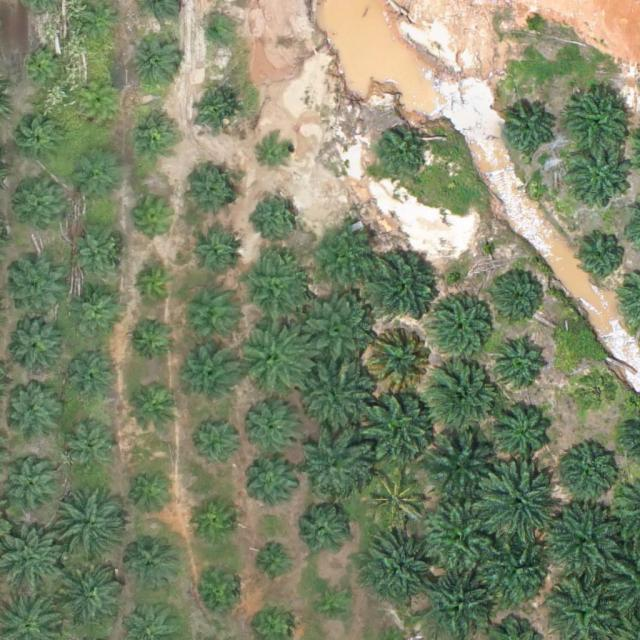Dead: (575, 368, 622, 415)
Grass: (360, 463, 431, 534)
Healthy: (237, 317, 315, 396), (52, 487, 130, 566), (364, 245, 442, 324), (360, 391, 438, 470), (299, 358, 377, 437), (298, 424, 376, 503), (424, 355, 502, 434), (421, 499, 499, 578), (363, 529, 441, 608), (476, 464, 554, 543), (482, 538, 560, 617), (542, 504, 620, 583), (294, 295, 372, 373), (423, 428, 501, 506), (241, 254, 311, 325), (310, 222, 380, 293), (428, 295, 498, 366), (245, 395, 308, 458), (569, 146, 632, 209), (555, 444, 618, 507), (55, 564, 117, 627), (178, 289, 240, 352), (567, 88, 629, 151), (491, 398, 553, 461), (14, 179, 69, 235), (183, 346, 238, 401), (244, 454, 299, 509), (68, 231, 123, 286), (69, 288, 124, 343), (63, 352, 118, 407), (68, 424, 123, 479), (11, 261, 66, 316), (9, 317, 64, 372), (7, 459, 62, 514), (501, 104, 556, 159), (294, 504, 349, 559), (5, 386, 59, 441), (123, 536, 177, 591), (496, 335, 550, 390), (493, 269, 547, 324), (135, 37, 182, 84)
Small: (187, 168, 242, 223), (189, 228, 244, 283), (375, 129, 430, 184), (575, 229, 629, 284), (192, 89, 239, 137), (131, 386, 178, 434), (256, 191, 303, 239), (194, 568, 241, 616), (15, 116, 62, 163), (76, 156, 123, 203), (130, 111, 177, 158), (134, 194, 181, 241), (129, 471, 176, 518), (192, 496, 239, 543), (128, 317, 175, 364), (197, 421, 244, 468), (132, 262, 179, 309), (259, 134, 298, 174), (21, 46, 60, 85), (84, 5, 123, 44), (255, 540, 294, 579), (313, 588, 352, 627), (201, 19, 232, 50)
Yellow: (365, 325, 435, 396), (78, 83, 117, 123)
